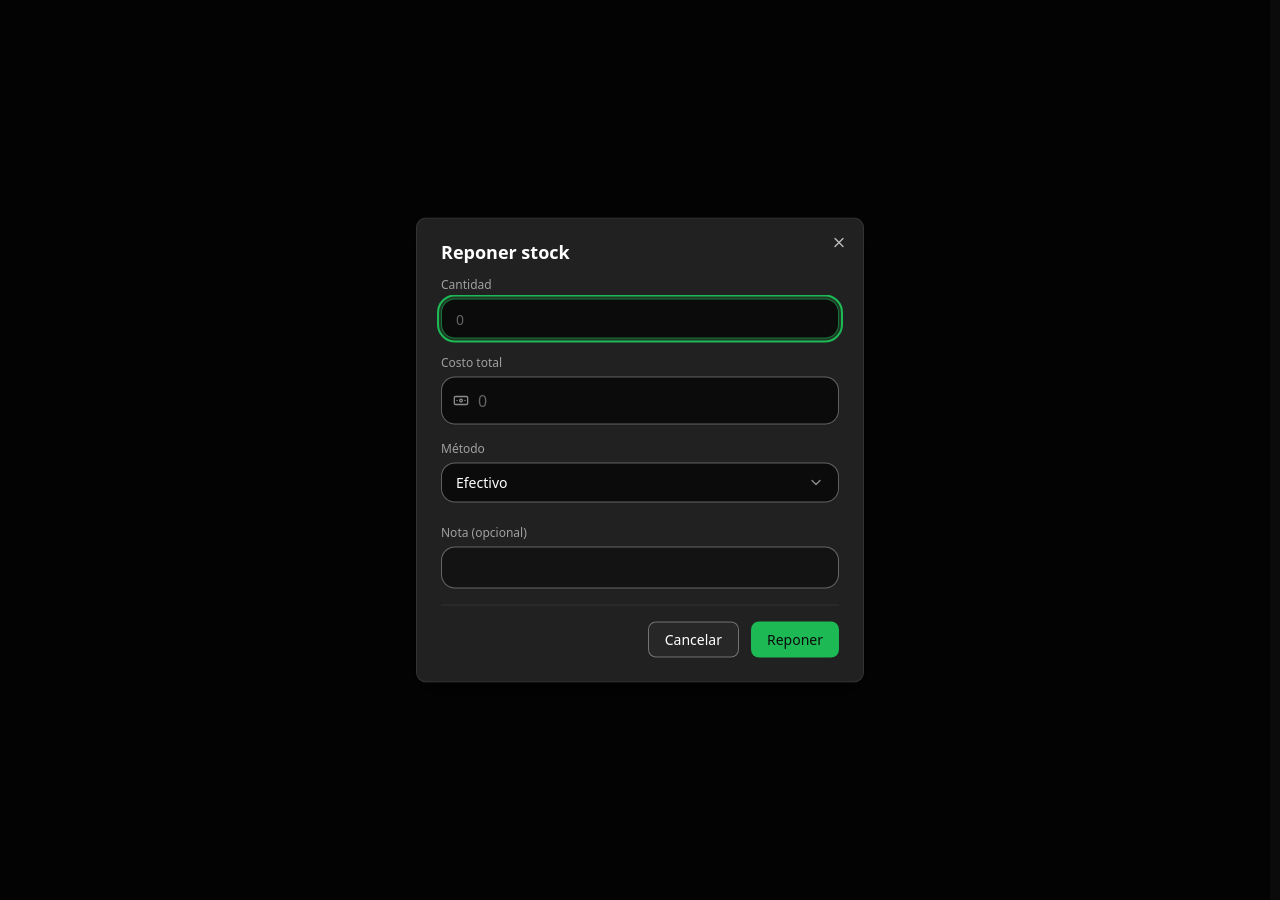
Test: RestockDialog — submit and error mapping › maps a 422 field error from the server onto the quantity field
The width and height of the screenshot is (1280, 900).
Type "10" into the number field labelled "Cantidad" at (640, 318), box x1=441 y1=298 x2=839 y2=338
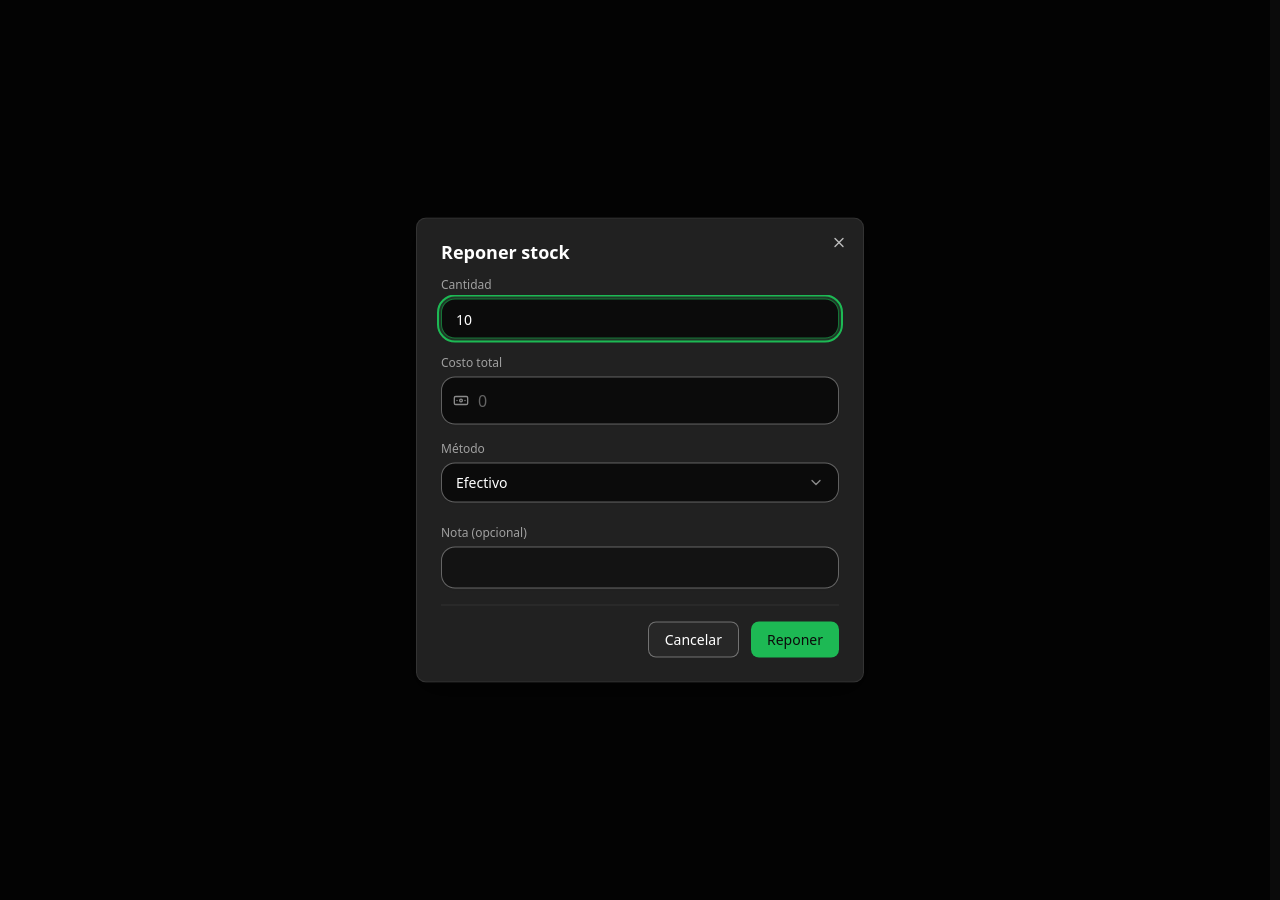
Type "5000" into the field labelled "Costo total" at (640, 400), box x1=441 y1=376 x2=839 y2=424
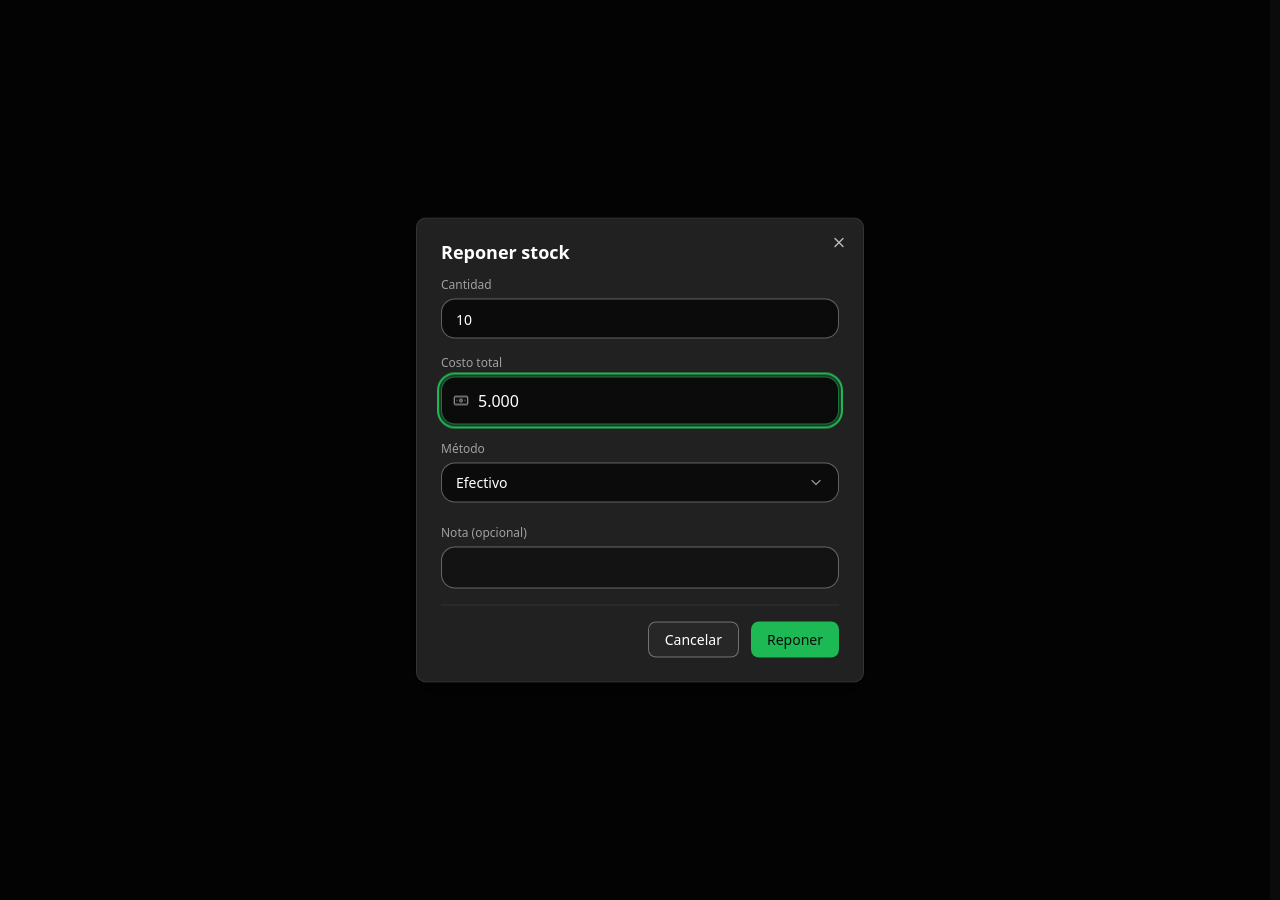
Click the button "Reponer" at (795, 640), box x1=751 y1=622 x2=839 y2=658
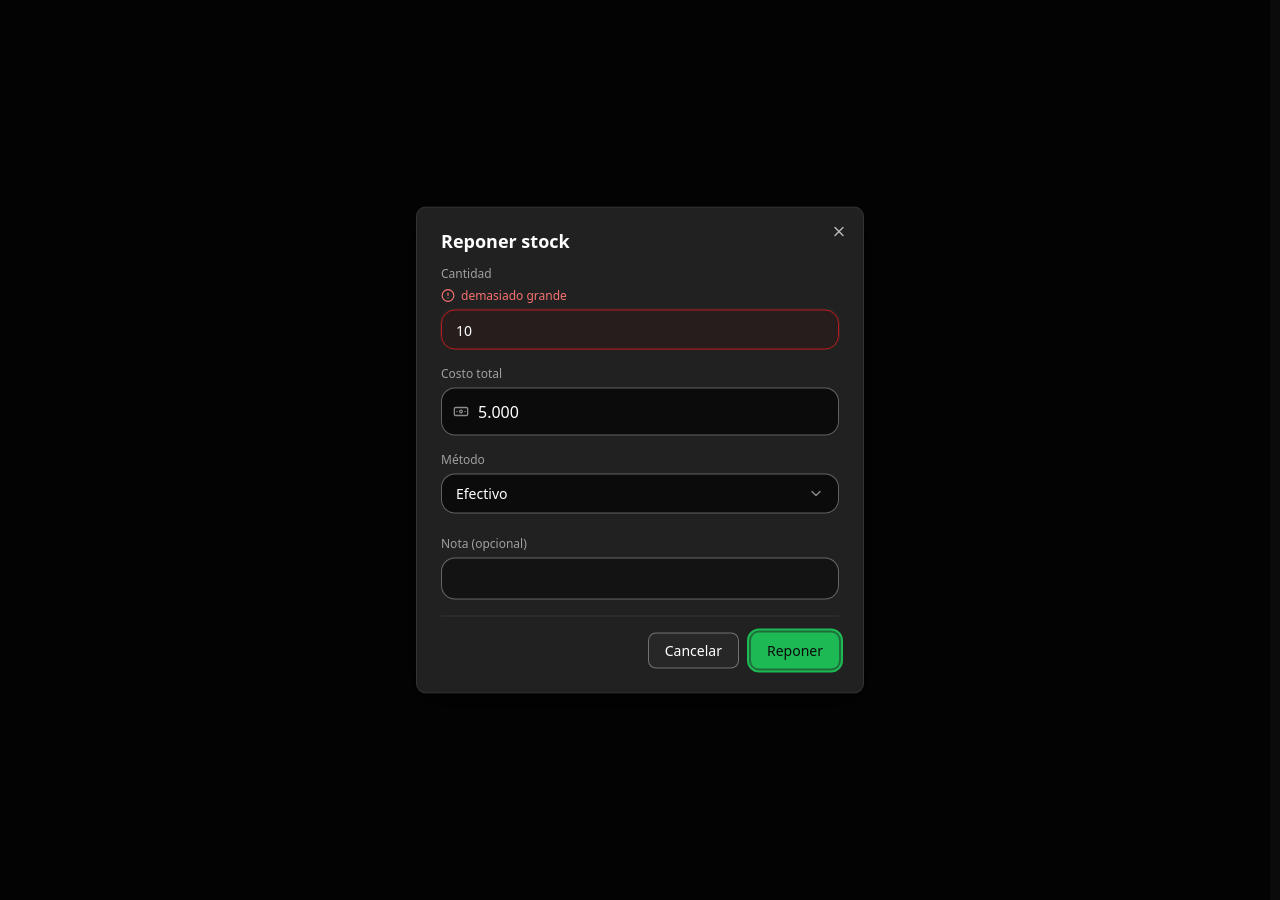
Check: the text "demasiado grande" is shown, box x1=441 y1=286 x2=567 y2=304
